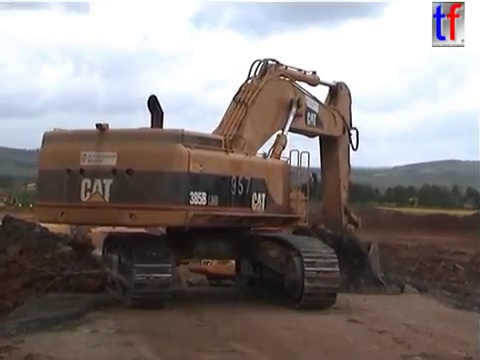excavator: (28, 55, 394, 311)
truck: (1, 218, 146, 338), (185, 224, 320, 290), (80, 222, 176, 303)
